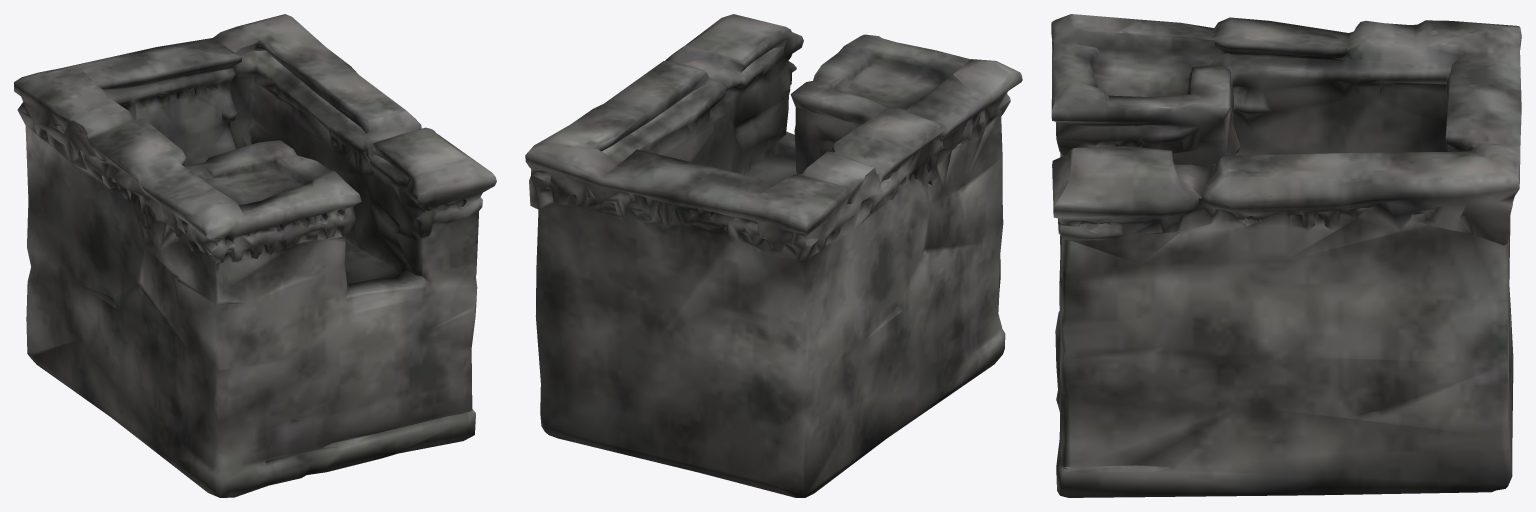
Rendered from simple-granite-battlement-wall-v001.glb.
3 views of the same model, side by side, from view 1: azimuth 30°, elevation 25°; view 2: azimuth 150°, elevation 25°; view 3: azimuth 270°, elevation 25° (orthographic). The views are drawn at different scales.
Visible parts, largest first — view 1: simple-granite-battlement-wall; view 2: simple-granite-battlement-wall; view 3: simple-granite-battlement-wall.
Boxes of the visible parts, box(x1,y1,x2,y2) form: simple-granite-battlement-wall: box(14, 14, 496, 497); simple-granite-battlement-wall: box(525, 14, 1022, 497); simple-granite-battlement-wall: box(1051, 14, 1521, 497).
Bounding box in the file's own units: 2.16 × 2.06 × 2.58.
1 material, 1 textured.
